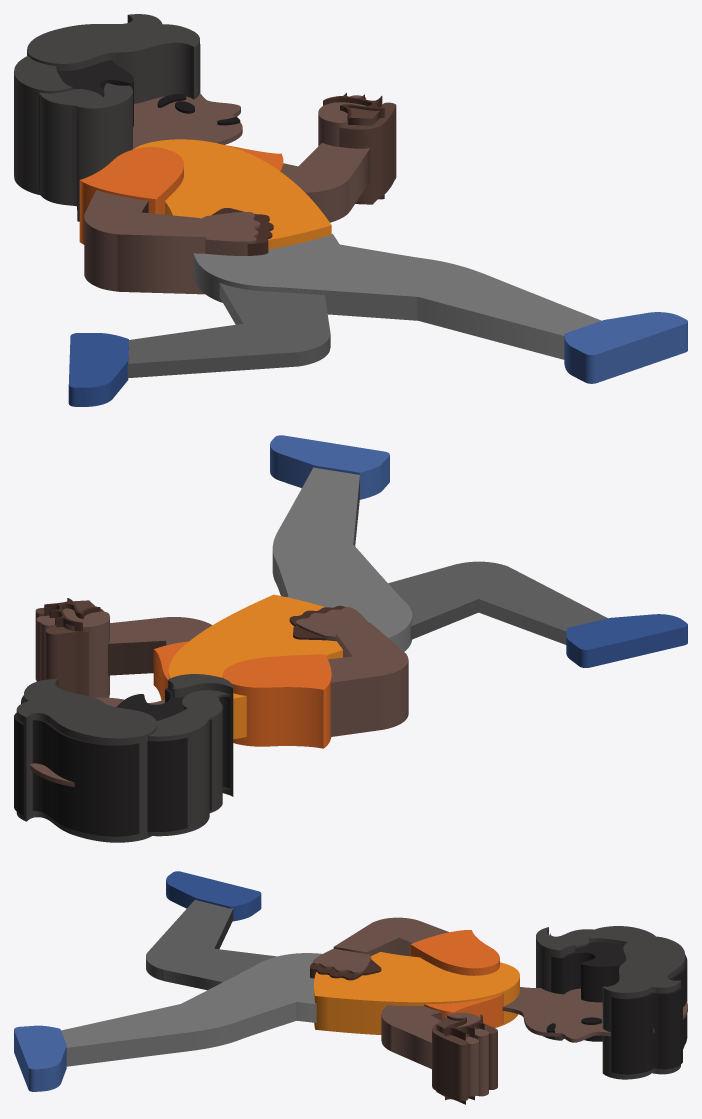
Rendered from emoji_u1f3c3_1f3ff_200d_27a1.glb.
The picture shows the model from 3 angles, top to bottom: view 1: azimuth 30°, elevation 25°; view 2: azimuth 150°, elevation 25°; view 3: azimuth 270°, elevation 25°; orthographic projection. The views are drawn at different scales.
Parts seen in each view (by area): view 1: emoji_u1f3c3_1f3ff_200d_27a1; view 2: emoji_u1f3c3_1f3ff_200d_27a1; view 3: emoji_u1f3c3_1f3ff_200d_27a1.
Boxes of the visible parts, x1=… form: emoji_u1f3c3_1f3ff_200d_27a1: x1=14, y1=14, x2=687, y2=406; emoji_u1f3c3_1f3ff_200d_27a1: x1=14, y1=435, x2=687, y2=842; emoji_u1f3c3_1f3ff_200d_27a1: x1=14, y1=871, x2=687, y2=1104.
Bounding box in the file's own units: 0.023 × 0.0048 × 0.0325.
